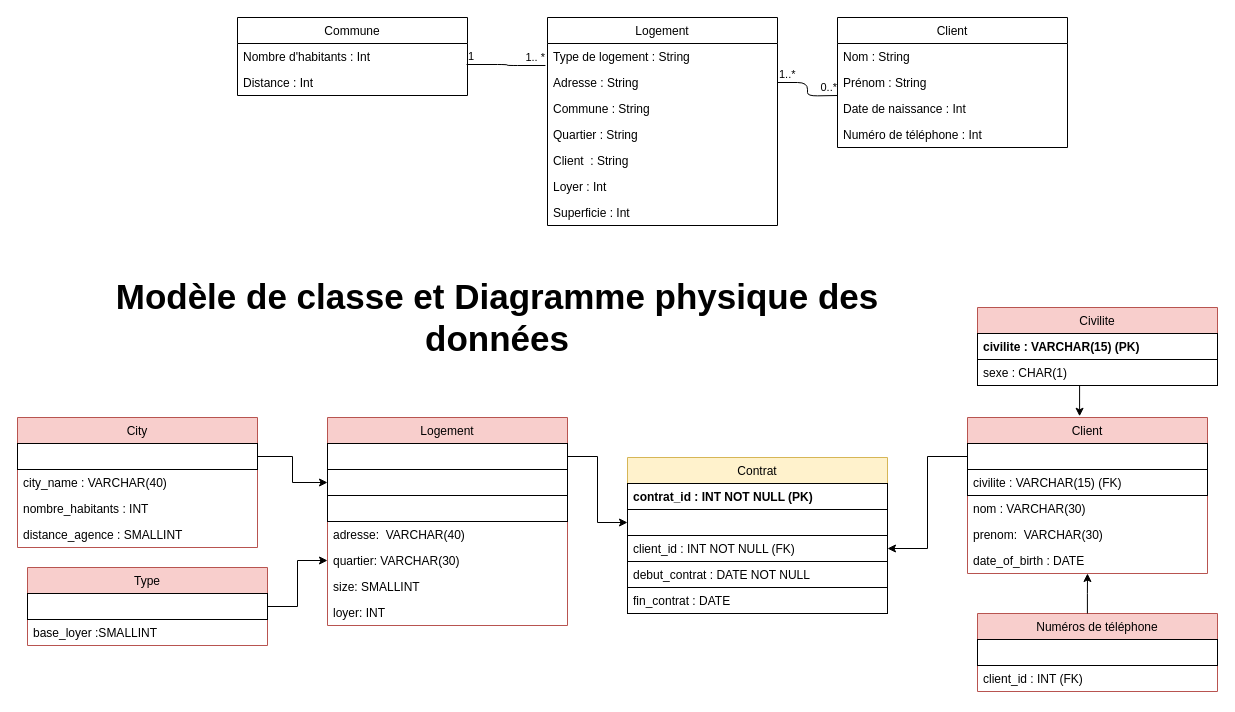
The diagram is 1235 pixels wide and 712 high, and some of its shapes have lost their labels. Each missing label, with the centre of its shape:
city_id : INT NOT NULL (FK): the point at 447,482
city_id : INT NOT NULL (PK): the point at 137,456
client_id: INT NOT NULL (PK): the point at 1087,456
logement_id : INT NOT NULL (FK): the point at 757,522
logement_id: INT NOT NULL (PK): the point at 447,456
telephone : VARCHAR(10) (PK): the point at 1097,652
type : INT NOT NULL (FK): the point at 447,508
type : VARCHAR(10) (PK): the point at 147,606
